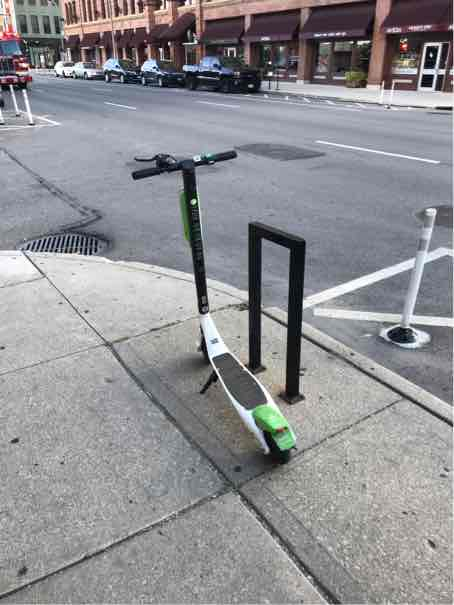scooter: (118, 138, 310, 465)
